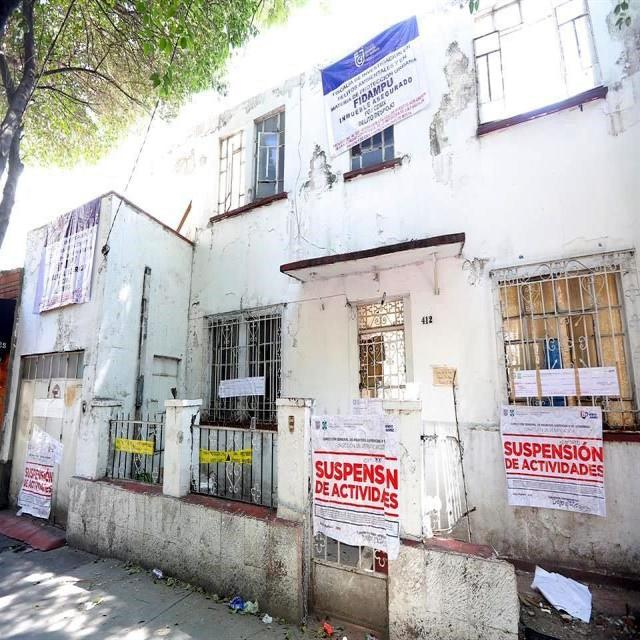stamps: (321, 16, 428, 157), (500, 406, 605, 517), (313, 418, 398, 555), (33, 199, 99, 311), (512, 366, 619, 399), (18, 443, 55, 516), (219, 377, 265, 396)
